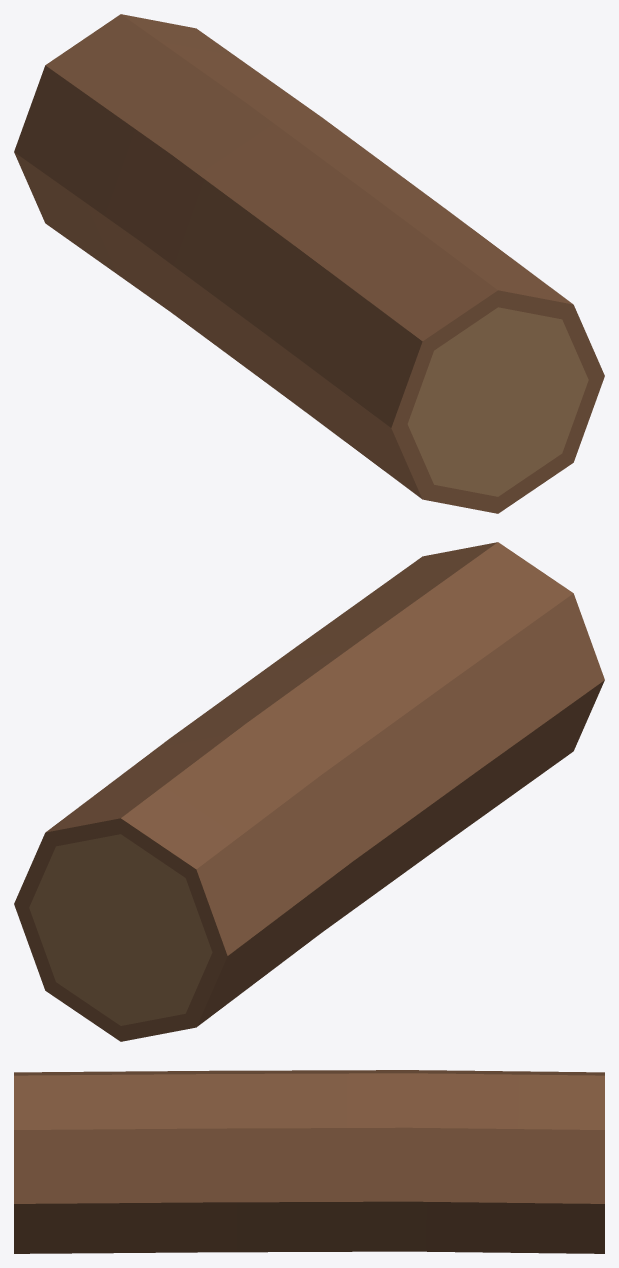
The model's file is atoll_Log.fbx.
3 renders of one model, top to bottom at view 1: azimuth 30°, elevation 25°; view 2: azimuth 150°, elevation 25°; view 3: azimuth 270°, elevation 25°, orthographic. The views are drawn at different scales.
Visible parts, largest first — view 1: pCylinder1; view 2: pCylinder1; view 3: pCylinder1.
Part boxes in pixels (x1,y1,x2,y2): pCylinder1: (14, 14, 604, 513); pCylinder1: (14, 542, 604, 1041); pCylinder1: (14, 1070, 604, 1253).
Bounding box in the file's own units: 10.24 × 10.38 × 31.33.
